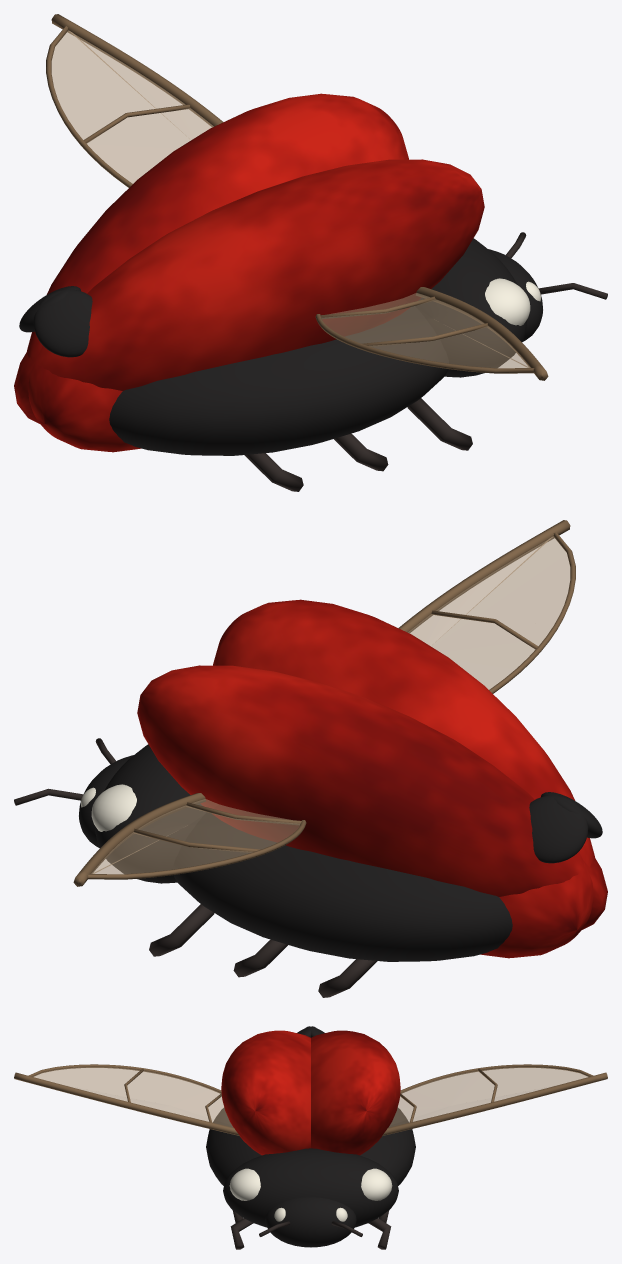
File: ladybug-flying.glb
3 views of the same model, one above another, from view 1: azimuth 30°, elevation 25°; view 2: azimuth 150°, elevation 25°; view 3: azimuth 270°, elevation 25° (orthographic). The views are drawn at different scales.
Parts seen in each view (by area): view 1: Elytron, Elytron.001, Abdomen, hind_wing membrane.001, hind_wing membrane, Pronotum, Spot.007, hind_wing leading vein.001, hind_wing leading vein, Pronotum patch, hind_wing rim, Tucked leg (+5 smaller); view 2: Elytron.001, Elytron, Abdomen, hind_wing membrane, hind_wing membrane.001, Pronotum, Spot.003, hind_wing leading vein, hind_wing leading vein.001, Pronotum patch.001, hind_wing rim.001, Tucked leg.003 (+6 smaller); view 3: Elytron, Elytron.001, Pronotum, hind_wing membrane, hind_wing membrane.001, Abdomen, Head, hind_wing leading vein, hind_wing leading vein.001, Pronotum patch, Pronotum patch.001, hind_wing rim (+3 smaller).
Part boxes in pixels (x1,y1,x2,y2): Elytron: (14,159,484,423); Elytron.001: (26,93,408,452); Abdomen: (109,306,448,455); hind_wing membrane.001: (51,30,213,183); hind_wing membrane: (322,293,530,368); Pronotum: (415,238,527,377); Spot.007: (33,289,92,357); hind_wing leading vein.001: (51,14,223,127); hind_wing leading vein: (416,287,548,380); Pronotum patch: (485,278,530,325); hind_wing rim: (315,314,542,378); Tucked leg: (407,398,472,450); Elytron.001: (137,665,607,929); Elytron: (213,599,595,958); Abdomen: (173,812,512,961); hind_wing membrane: (408,536,570,689); hind_wing membrane.001: (91,799,299,874); Pronotum: (94,744,206,883); Spot.003: (529,795,588,863); hind_wing leading vein: (398,520,570,633); hind_wing leading vein.001: (73,793,205,886); Pronotum patch.001: (91,784,136,831); hind_wing rim.001: (79,820,306,884); Tucked leg.003: (149,904,214,956); Elytron: (221,1030,310,1155); Elytron.001: (311,1030,400,1155); Pronotum: (223,1148,398,1227); hind_wing membrane: (33,1067,232,1127); hind_wing membrane.001: (389,1067,588,1127); Abdomen: (206,1108,415,1185); Head: (265,1197,356,1247); hind_wing leading vein: (14,1072,239,1135); hind_wing leading vein.001: (382,1072,607,1135); Pronotum patch: (229,1168,260,1200); Pronotum patch.001: (361,1168,392,1200); hind_wing rim: (28,1064,221,1093).
Size of the model in its own units: 2.24 by 1.13 by 3.51.
6 materials, 1 textured.
